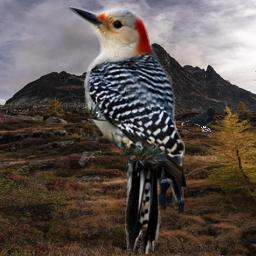Crow: (181, 107, 215, 132)
Woodpecker: (69, 6, 185, 254)
